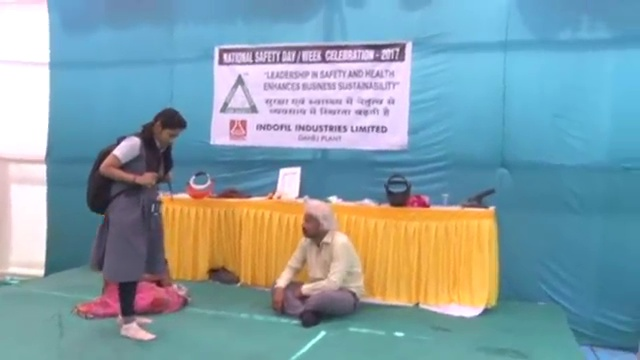helmet_off: (149, 108, 187, 148), (299, 197, 331, 242)
person: (85, 106, 189, 341), (269, 197, 366, 328)
